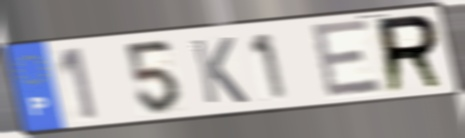1: (54, 45, 99, 124), (246, 30, 289, 103)
5: (123, 36, 184, 118)
E: (307, 17, 386, 102)
K: (188, 35, 251, 106)
R: (374, 11, 448, 96)
